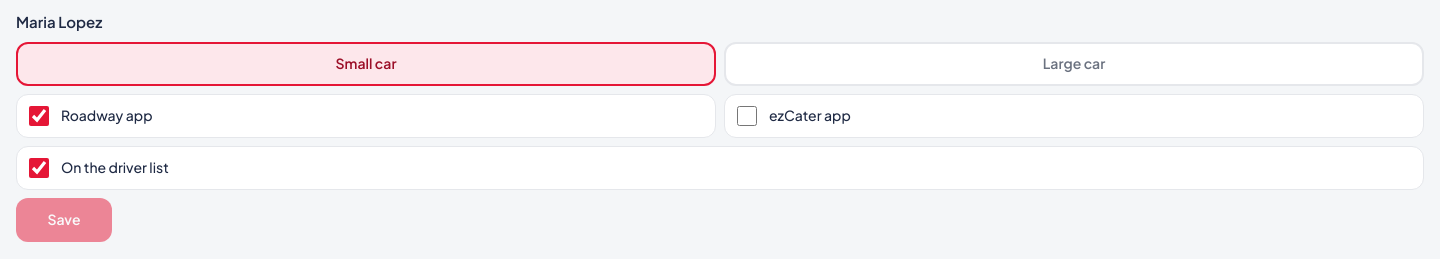
Test case: RosterDriverRow › keeps Save off until something changes, then saves every field
Expected: the button "Save" is disabled, [16,198,112,242]
Click the radio button labelled "Large car" at (1074, 64), box [724,42,1424,86]
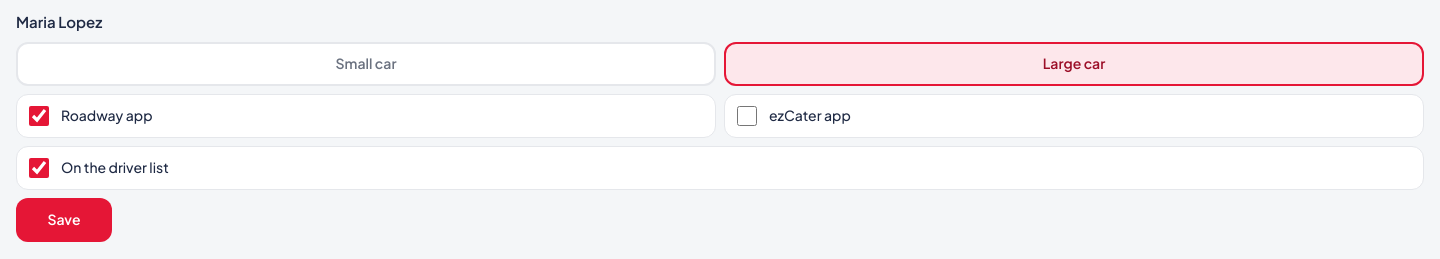
Click the checkbox labelled "ezCater app" at (747, 116), box [737,106,757,126]
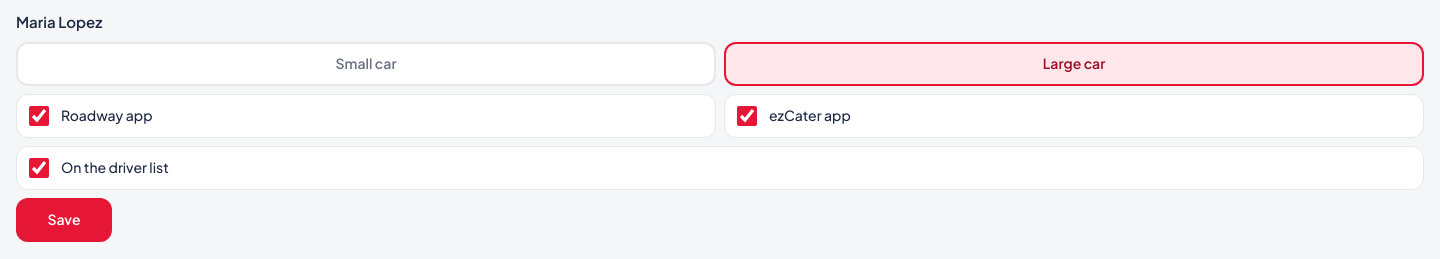
Click the switch labelled "On the driver list" at (39, 168), box [29,158,49,178]
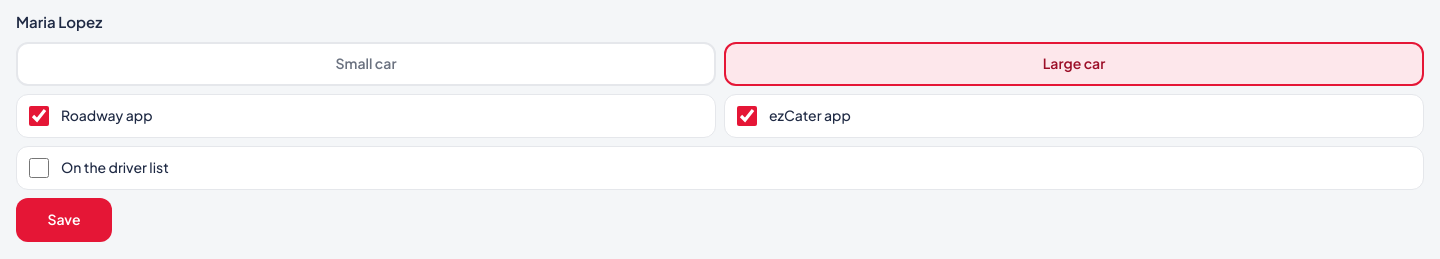
Expected: the button "Save" is enabled
Click the button "Save" at (64, 220), box [16,198,112,242]
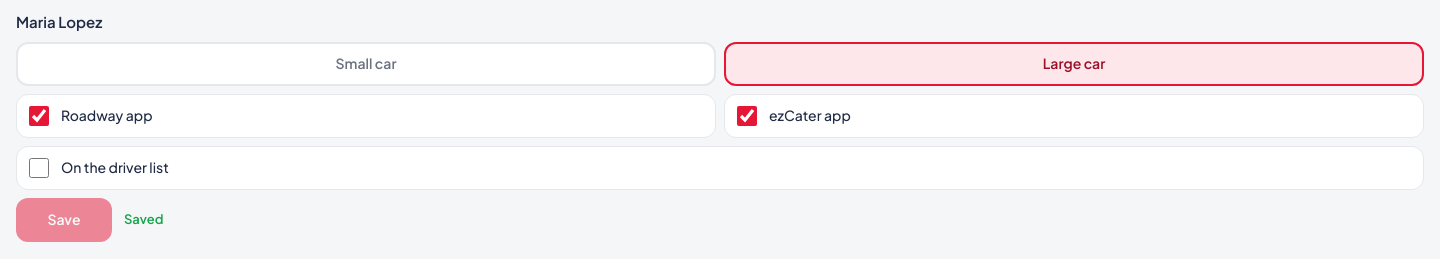
Expected: the text "Saved" is shown, [124,210,163,229]
